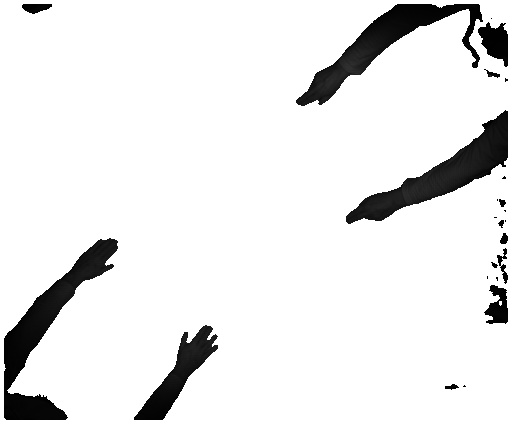hand: (176, 320, 223, 376), (76, 232, 119, 286), (296, 67, 343, 111), (344, 191, 398, 223)
